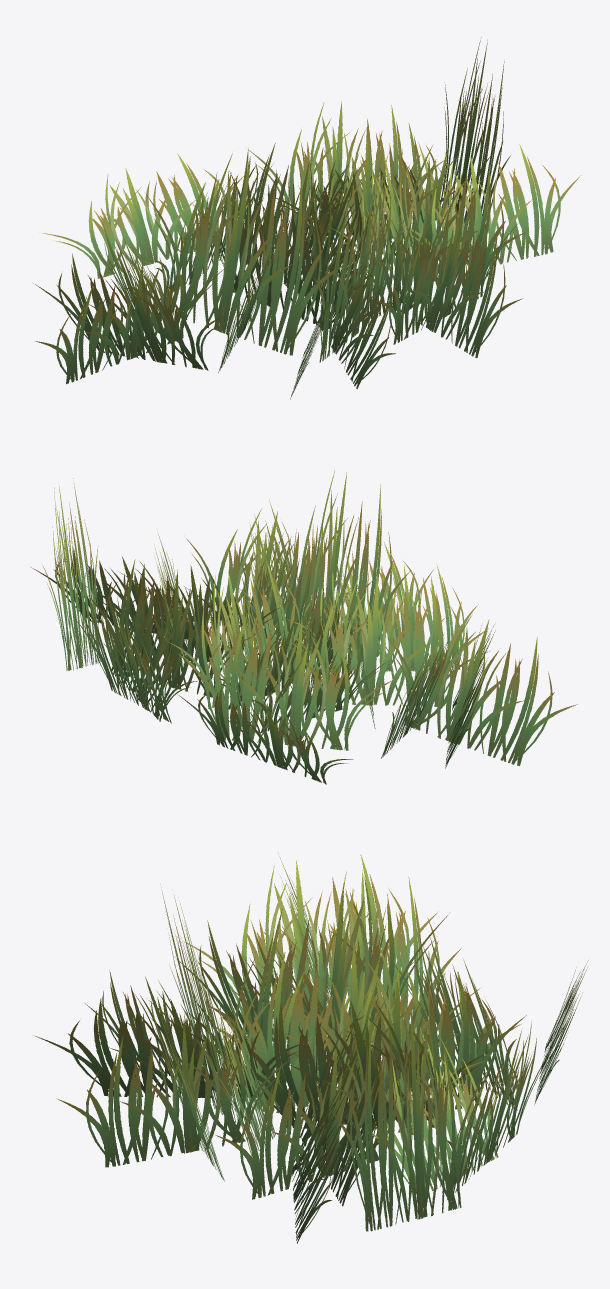
File: Grass.FBX
The picture shows the model from 3 angles, top to bottom: view 1: azimuth 30°, elevation 25°; view 2: azimuth 150°, elevation 25°; view 3: azimuth 270°, elevation 25°; orthographic projection. The views are drawn at different scales.
Parts seen in each view (by area): view 1: Object017; view 2: Object017; view 3: Object017.
Boxes of the visible parts, x1,y1,x2,y2 form: Object017: [33, 37, 581, 399]; Object017: [31, 470, 577, 784]; Object017: [35, 853, 588, 1243].
Bounding box in the file's own units: 10.35 × 4.08 × 7.19.
